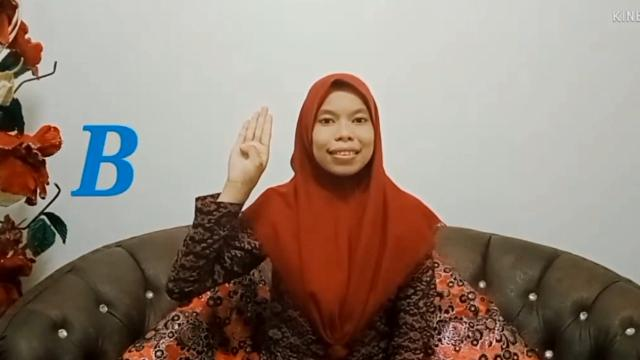B: (228, 105, 272, 192)
